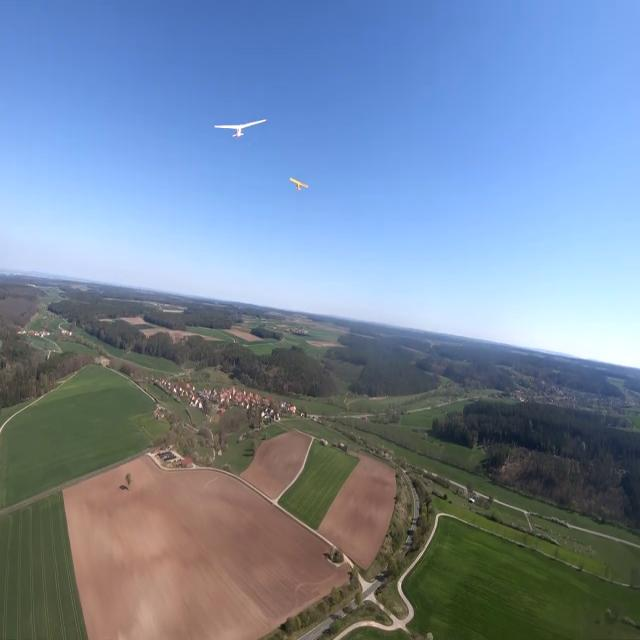iha: (213, 50, 267, 76), (287, 176, 309, 192)
